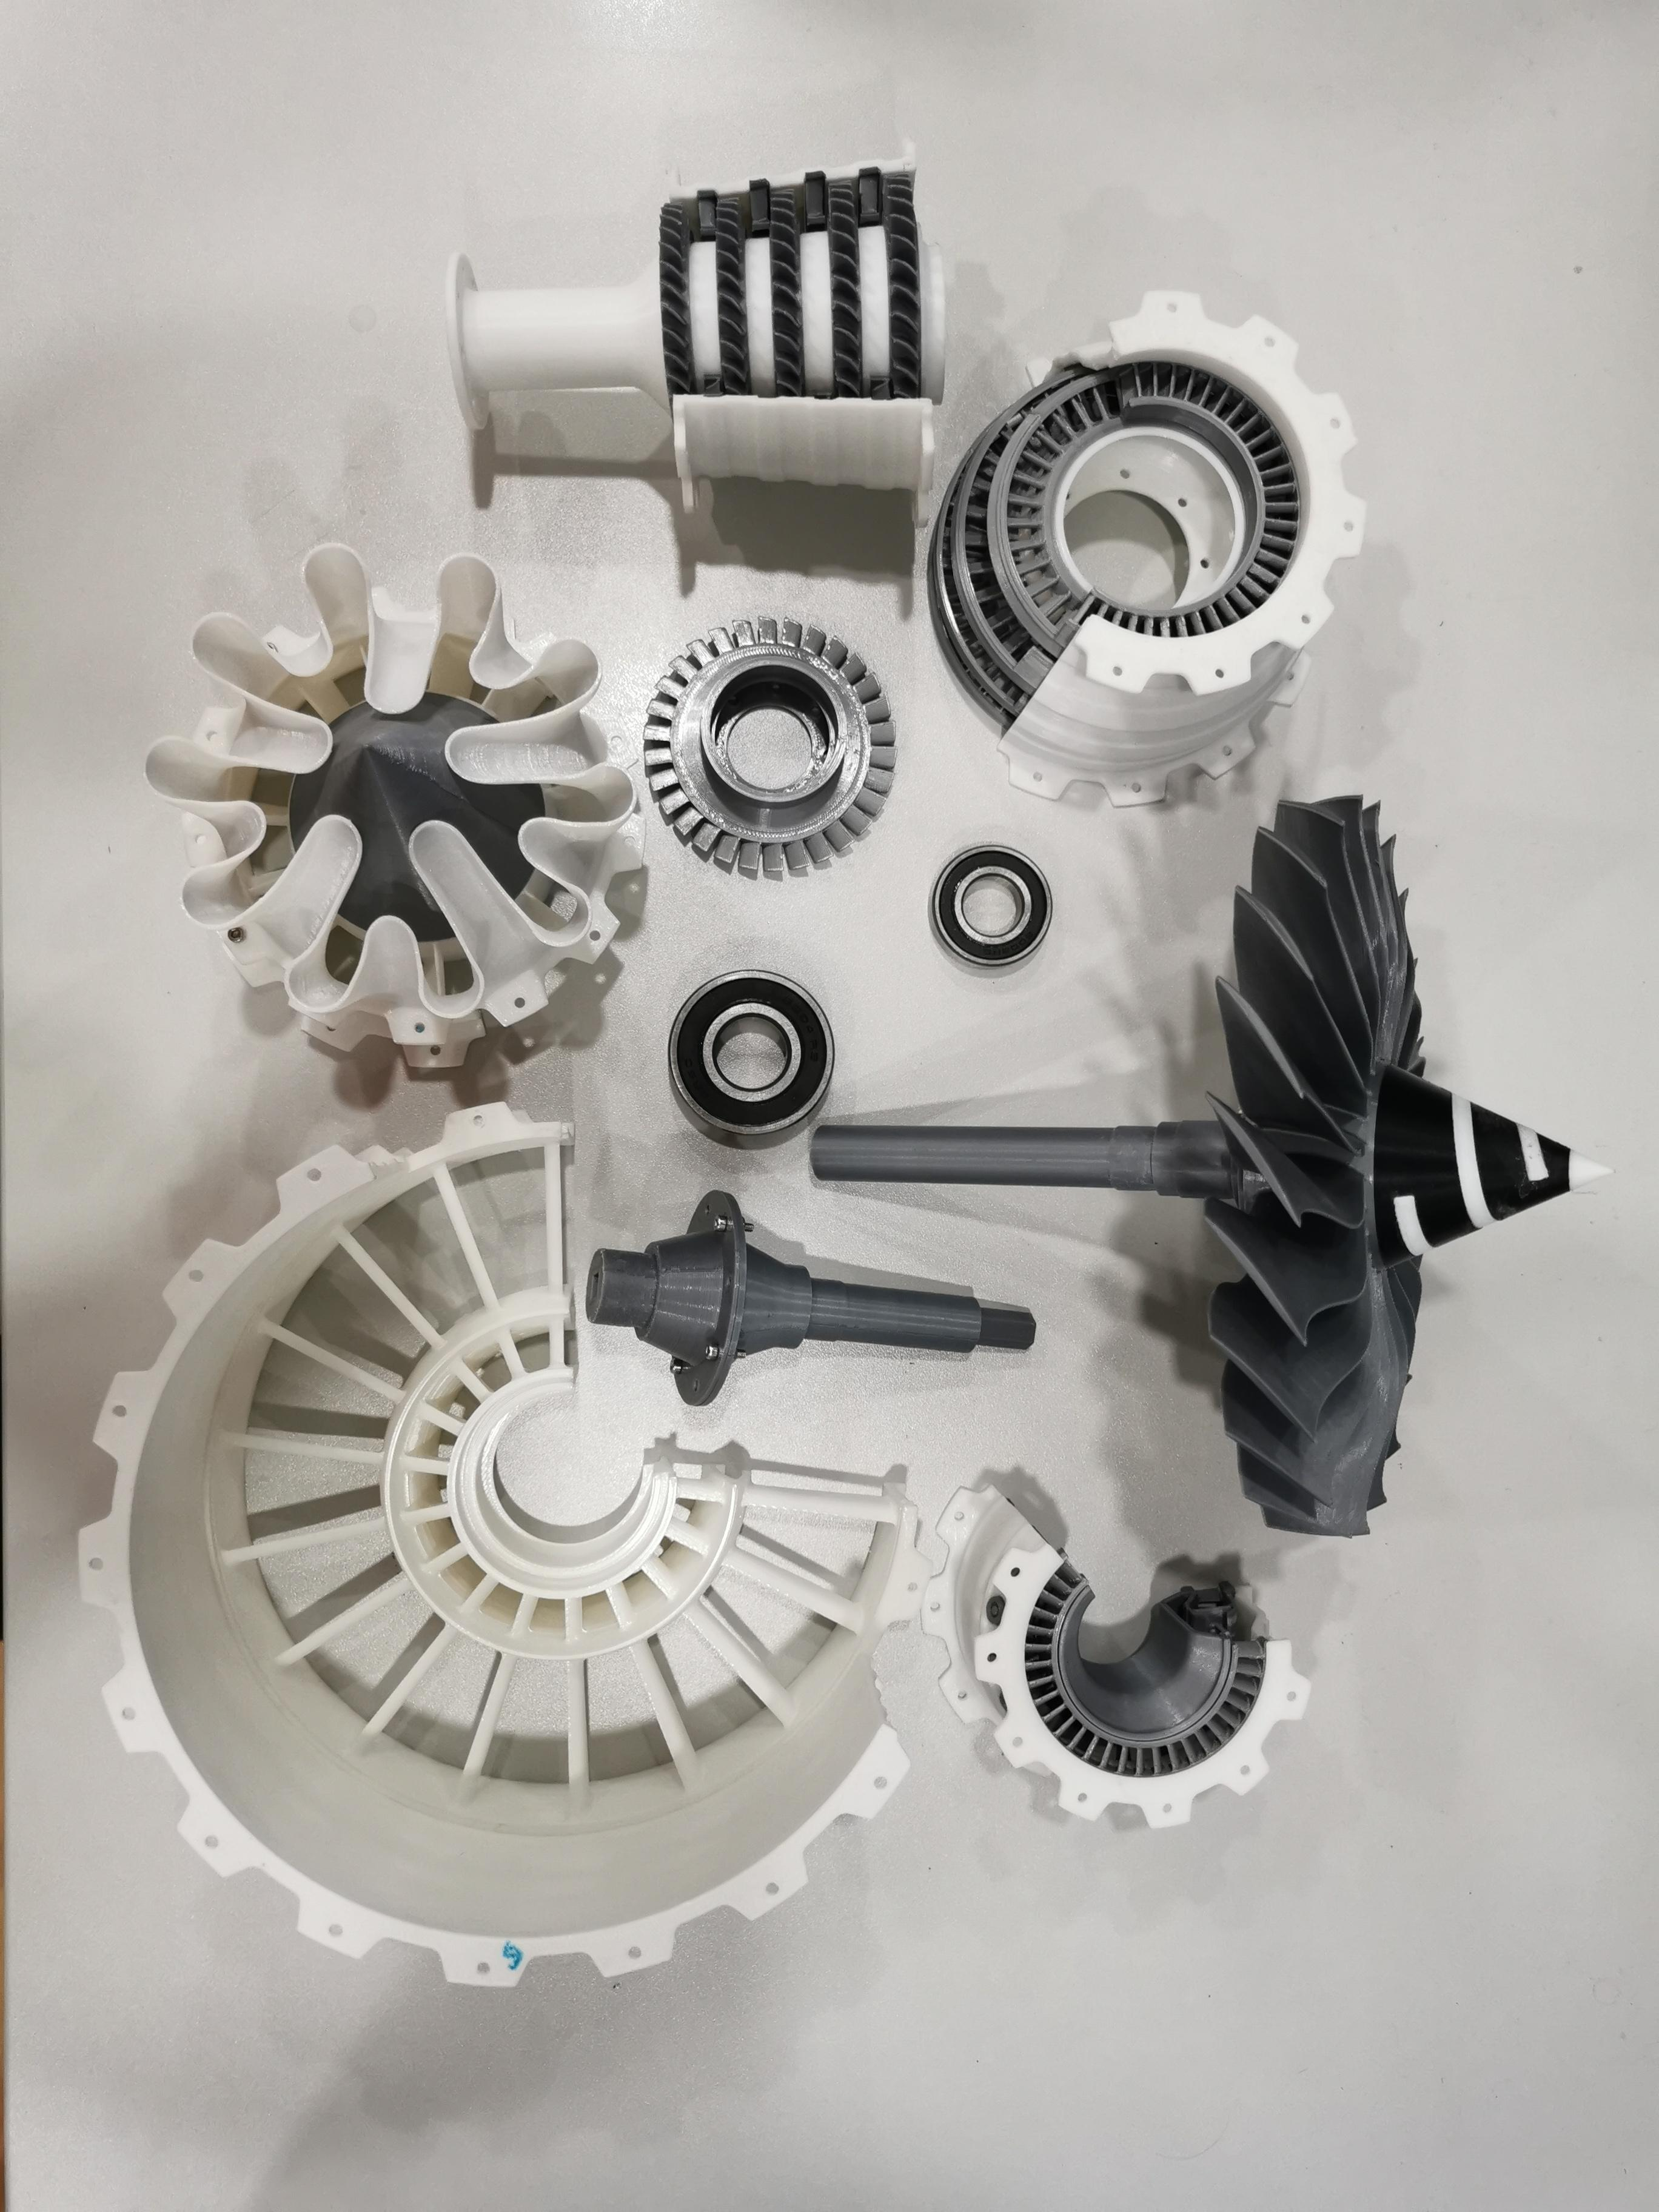Bearing-6003: (911, 833, 1068, 988)
Bearing-6204: (641, 953, 838, 1151)
Combustion Section: (913, 1472, 1330, 1841)
Fan Casing and Support: (59, 1092, 936, 2006)
Fan and Low Pressure Shaft: (800, 784, 1621, 1555)
HPT Section: (624, 604, 915, 880)
High Pressure Spool: (436, 117, 955, 536)
LPT Section: (915, 279, 1373, 827)
Low Pressure Spool: (580, 1176, 1044, 1414)
Nozzle Section: (138, 533, 652, 1069)
